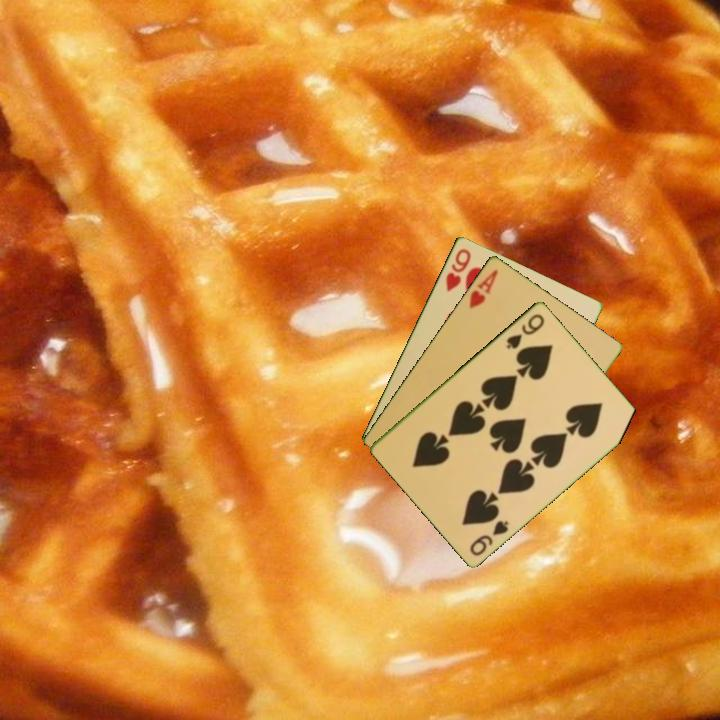9h: (442, 244, 474, 294)
9s: (466, 517, 512, 558), (503, 310, 547, 351)
Ah: (465, 265, 501, 311)
